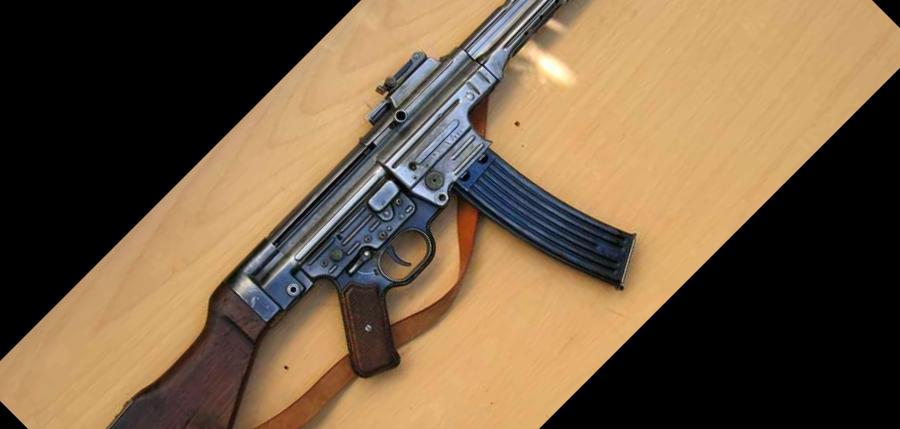larga: (106, 0, 638, 429)
